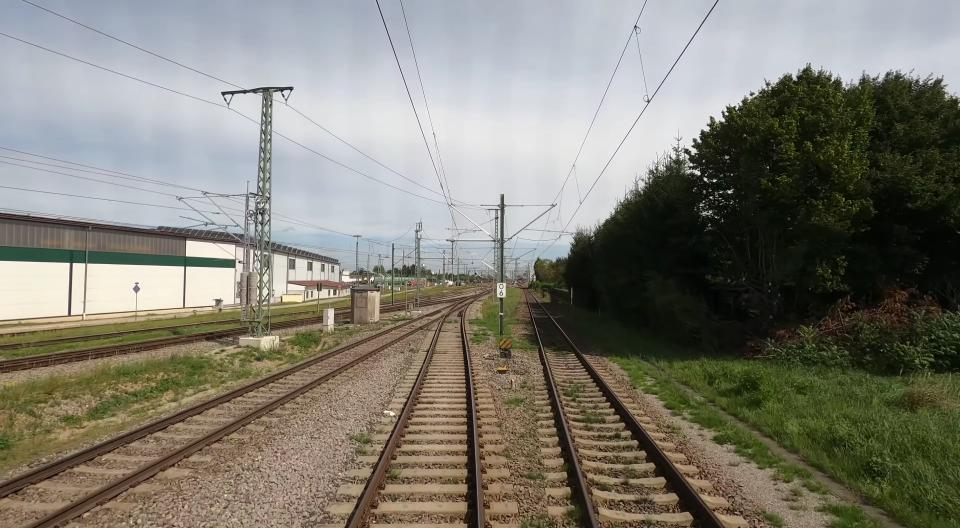Plant: (608, 355, 883, 528), (520, 515, 556, 528), (761, 510, 786, 528), (470, 328, 490, 343), (582, 411, 606, 423), (355, 446, 377, 456), (515, 340, 537, 350), (350, 434, 372, 443), (504, 396, 524, 405), (525, 471, 544, 480), (565, 387, 580, 397), (666, 424, 681, 434), (386, 470, 400, 480), (520, 379, 533, 389), (470, 318, 486, 326), (596, 486, 614, 491)
